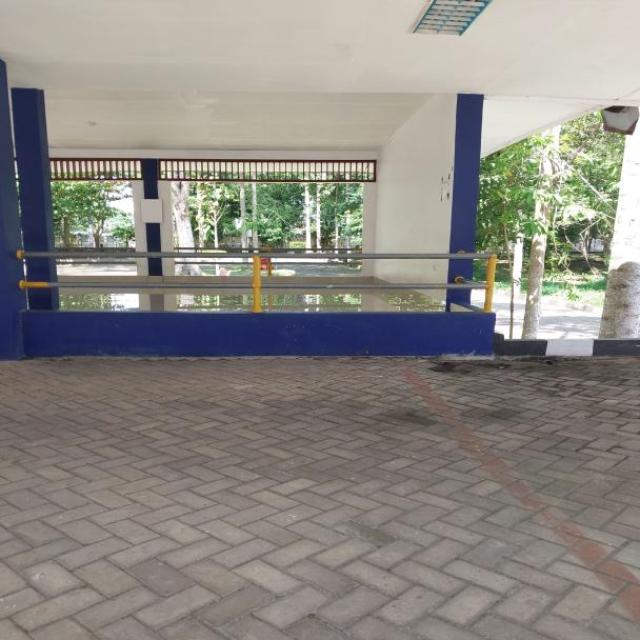barrier ahead at: (6, 252, 495, 358)
